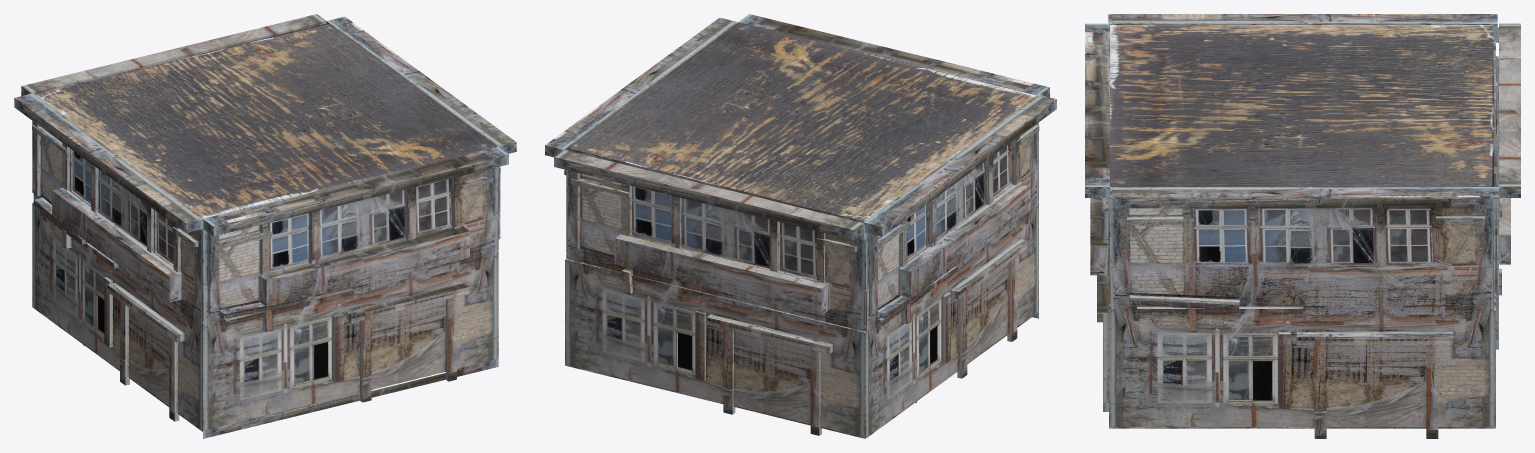
The model's file is BagBuilding11_70.fbx.
3 renders of one model, left to right at view 1: azimuth 30°, elevation 25°; view 2: azimuth 150°, elevation 25°; view 3: azimuth 270°, elevation 25°, orthographic. The views are drawn at different scales.
Parts seen in each view (by area): view 1: main70, roofA70, Box70; view 2: main70, roofA70, Box70; view 3: main70, roofA70, Box70.
Part boxes in pixels (x1,y1,x2,y2): main70: (14,14,516,438); roofA70: (35,23,497,218); Box70: (35,95,451,389); main70: (545,14,1056,438); roofA70: (566,22,1036,221); Box70: (566,96,1035,371); main70: (1085,14,1520,438); roofA70: (1110,25,1493,186); Box70: (1197,210,1493,401).
Bounding box in the file's own units: 14.63 × 9.29 × 14.71.
